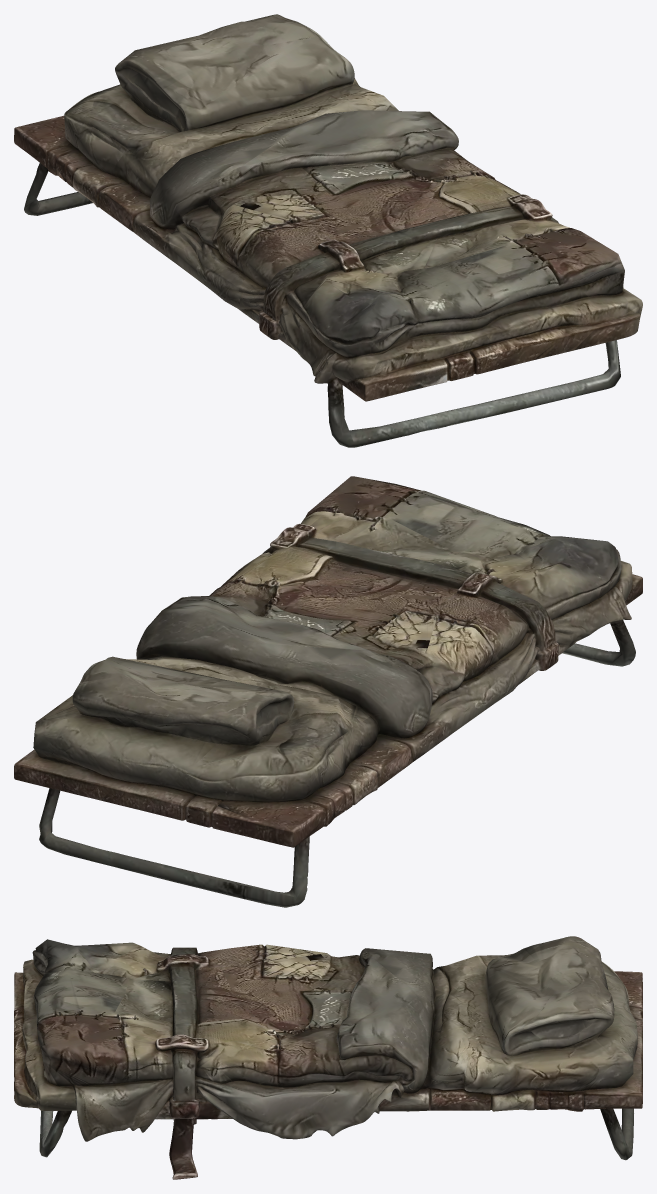
Rendered from prop_cot_bed.glb.
3 views of the same model, one above another, from view 1: azimuth 30°, elevation 25°; view 2: azimuth 150°, elevation 25°; view 3: azimuth 270°, elevation 25° (orthographic). The views are drawn at different scales.
Parts seen in each view (by area): view 1: model; view 2: model; view 3: model.
Part boxes in pixels (x1,y1,x2,y2): model: (14,14,642,447); model: (14,476,642,907); model: (14,936,642,1179).
Bounding box in the file's own units: 1.05 × 0.4958 × 1.9.
Materials: 1 (1 with a texture image).
